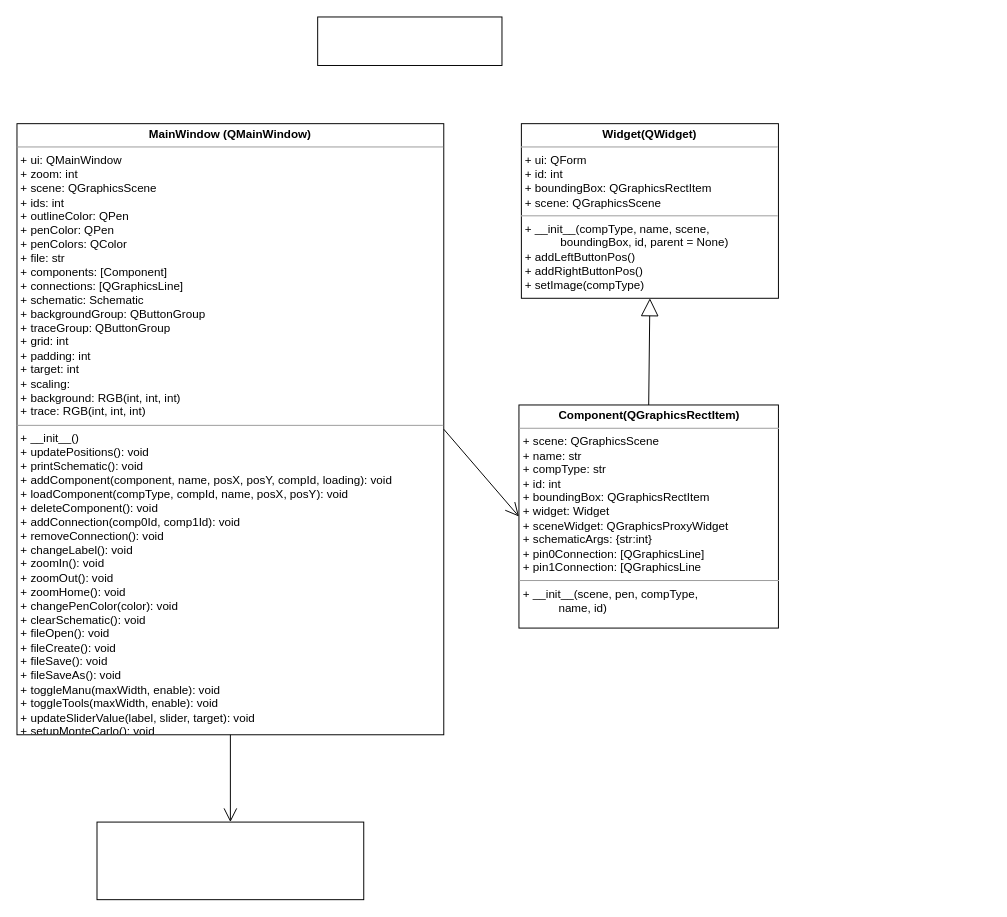
The diagram is 1007 pixels wide and 917 high, and some of its shapes have lost their labels. Each missing label, with the box of its shape:
Circuit Board Designer Class Diagram (Python 3): (317, 16, 502, 65)
Schematic (from other diagram): (96, 821, 364, 900)
